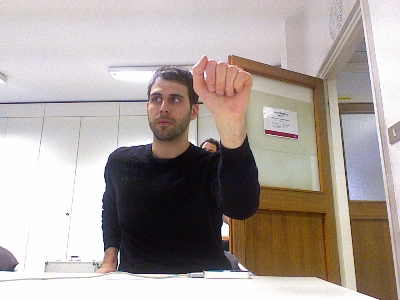石头: (191, 53, 253, 119)
